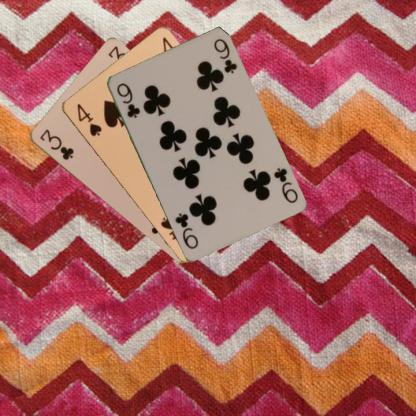3c: (37, 126, 75, 162)
4s: (74, 100, 103, 138)
9c: (270, 165, 299, 205), (113, 80, 141, 119)
